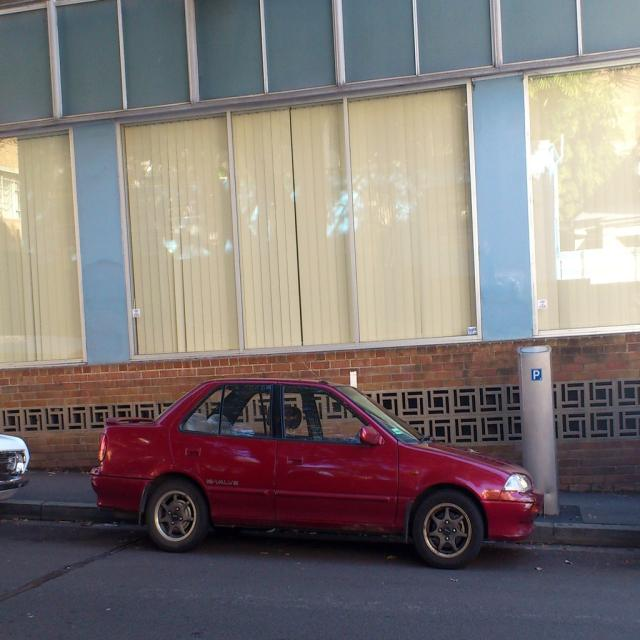car: (85, 375, 534, 569)
